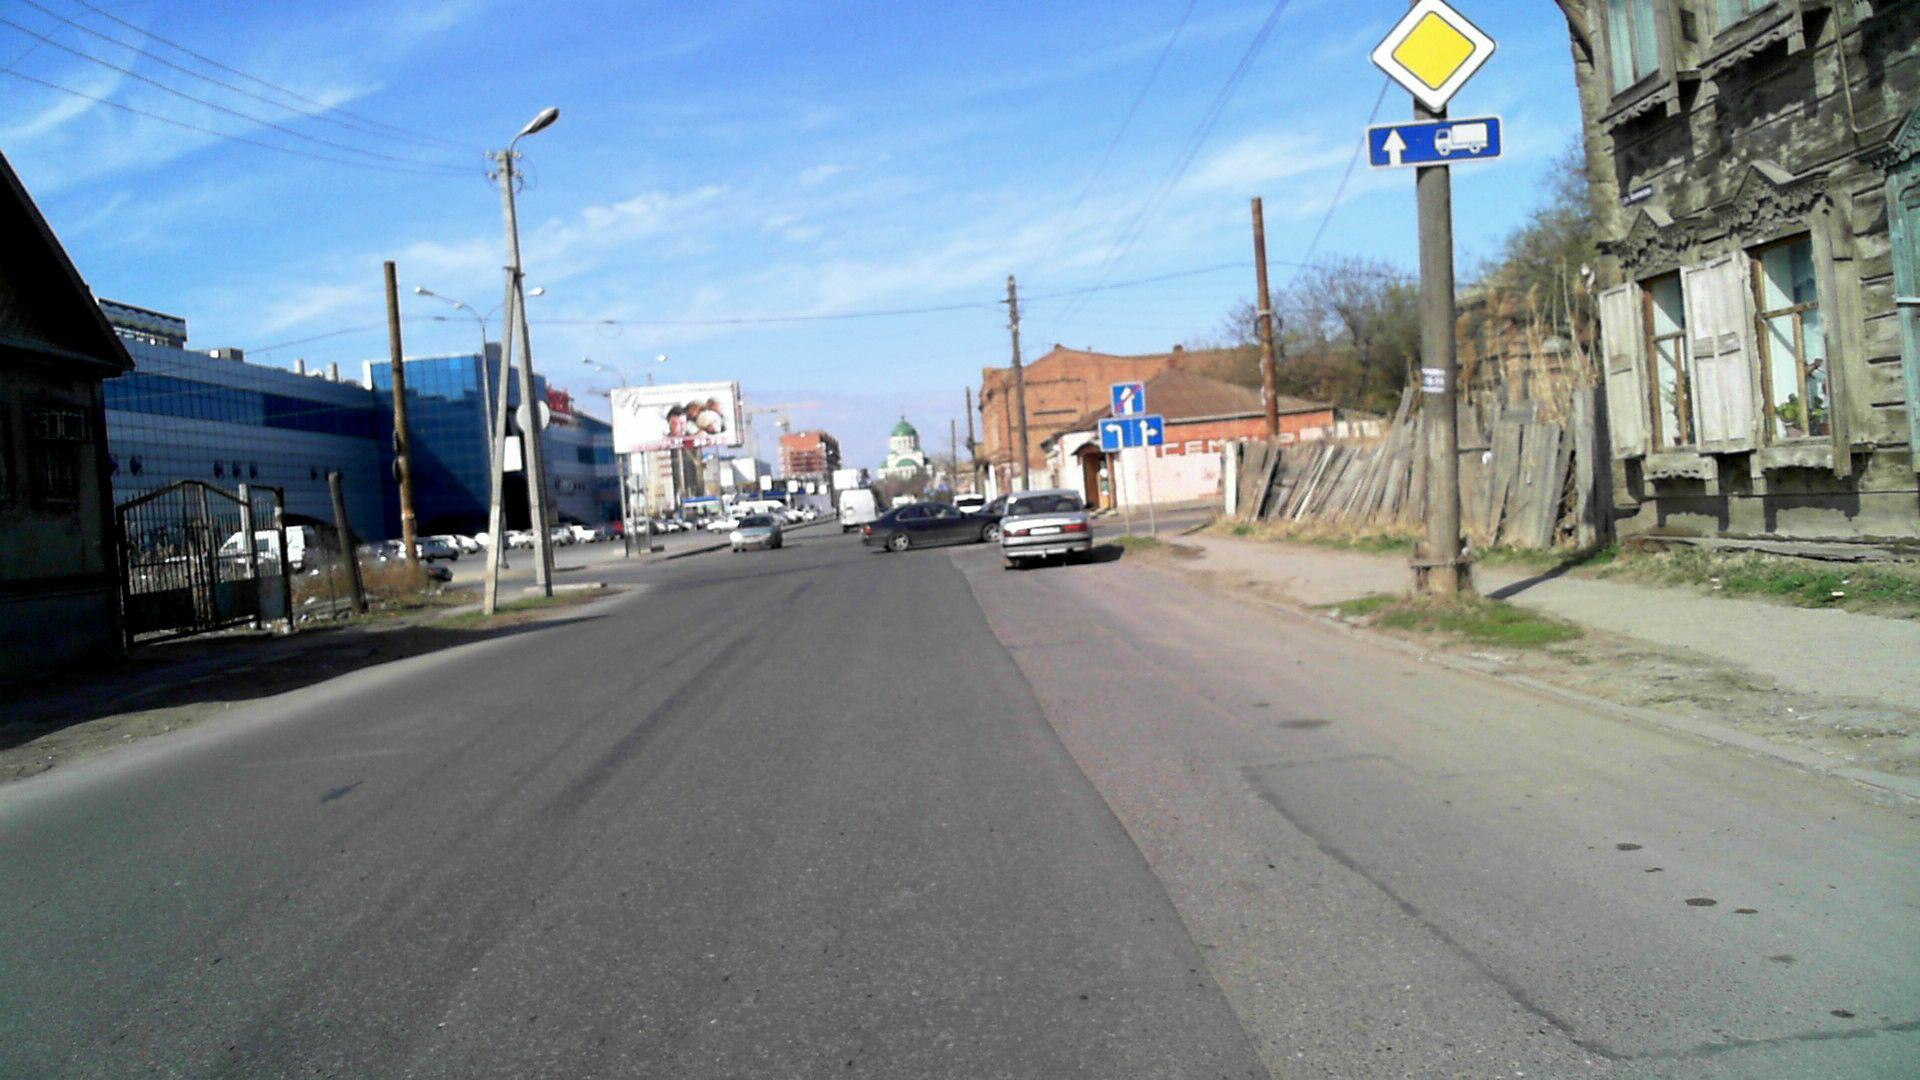2_1: (1367, 0, 1495, 113)
5_15_1: (1098, 415, 1166, 448)
5_6: (1109, 382, 1149, 413)
6_15_1: (1367, 113, 1501, 166)
